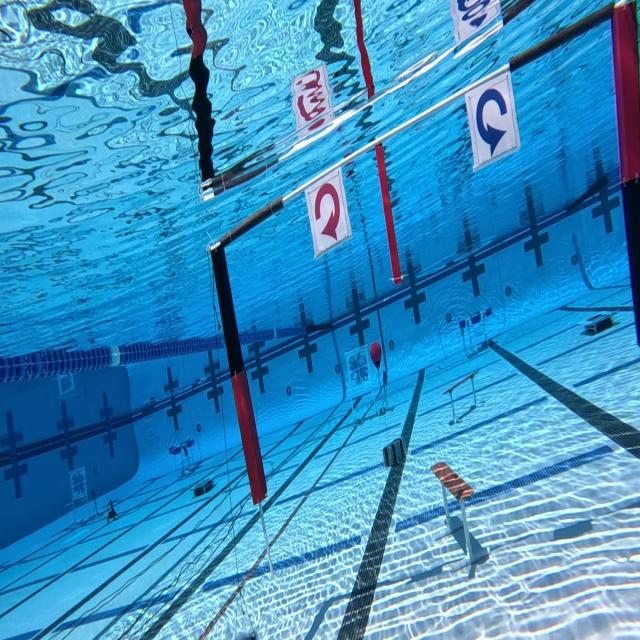red_side: (466, 74, 522, 160), (305, 166, 353, 253)
